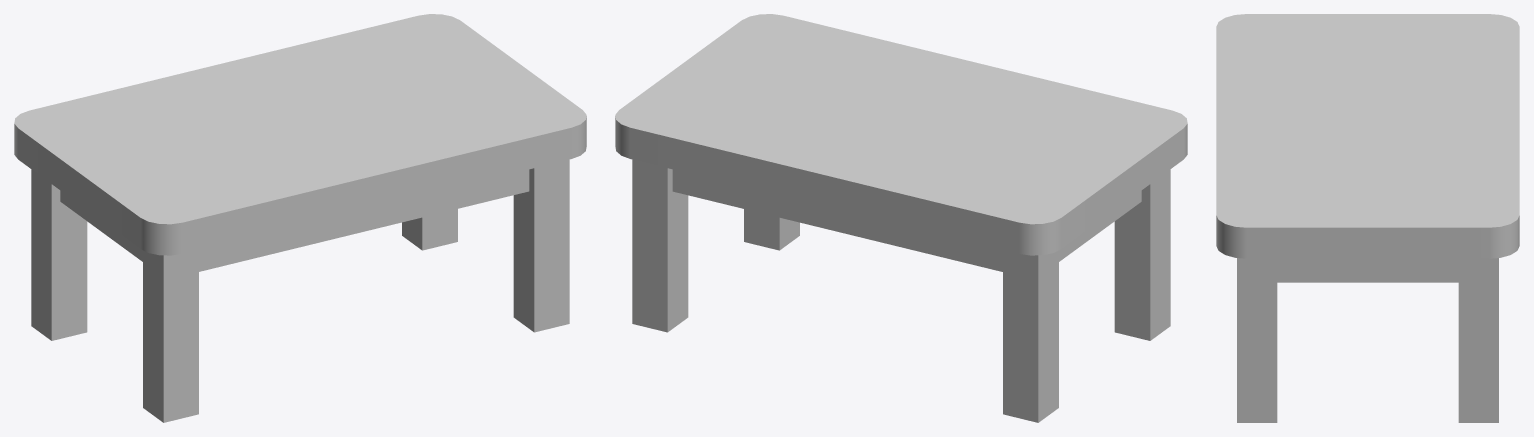
The model's file is table.fbx.
3 renders of one model, left to right at view 1: azimuth 30°, elevation 25°; view 2: azimuth 150°, elevation 25°; view 3: azimuth 270°, elevation 25°, orthographic.
Parts seen in each view (by area): view 1: pCube12; view 2: pCube12; view 3: pCube12.
Boxes of the visible parts, <box> form: pCube12: <box>14,14,586,422</box>; pCube12: <box>615,14,1187,422</box>; pCube12: <box>1216,14,1519,422</box>.
Size of the model in its own units: 12.47 by 5.55 by 7.48.
